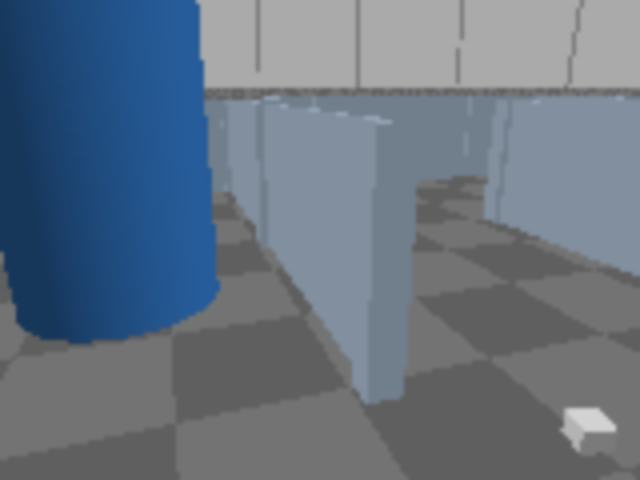puck: (562, 409, 619, 454)
